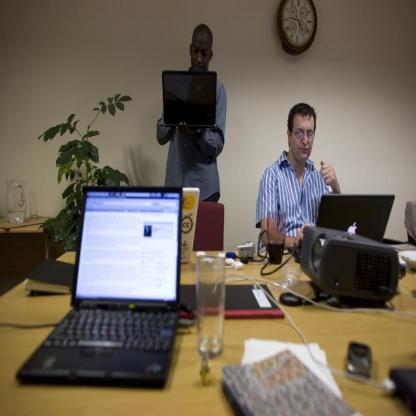board: (18, 186, 192, 396), (316, 195, 395, 242), (163, 70, 216, 126)
